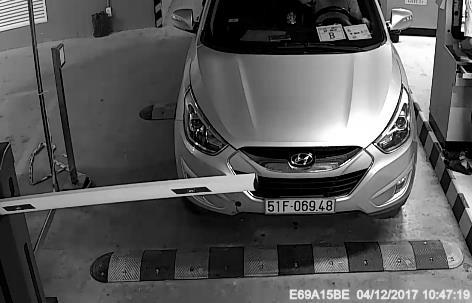License-plate: (257, 184, 348, 225)
